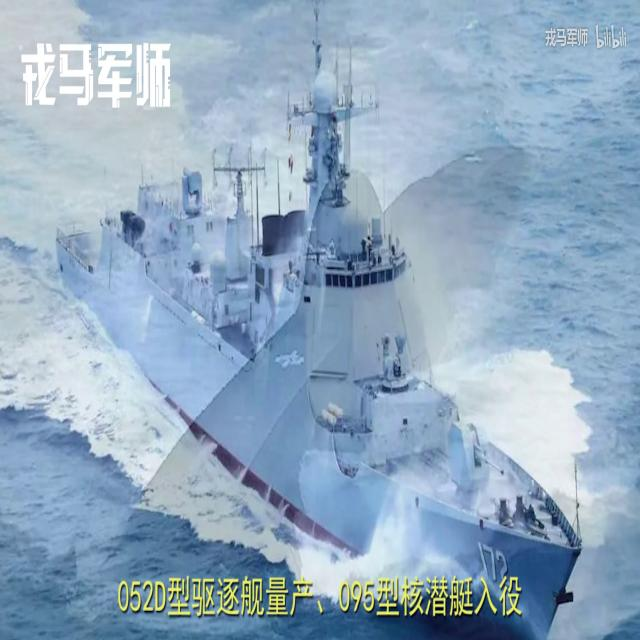navalvessels: (59, 76, 582, 640)
